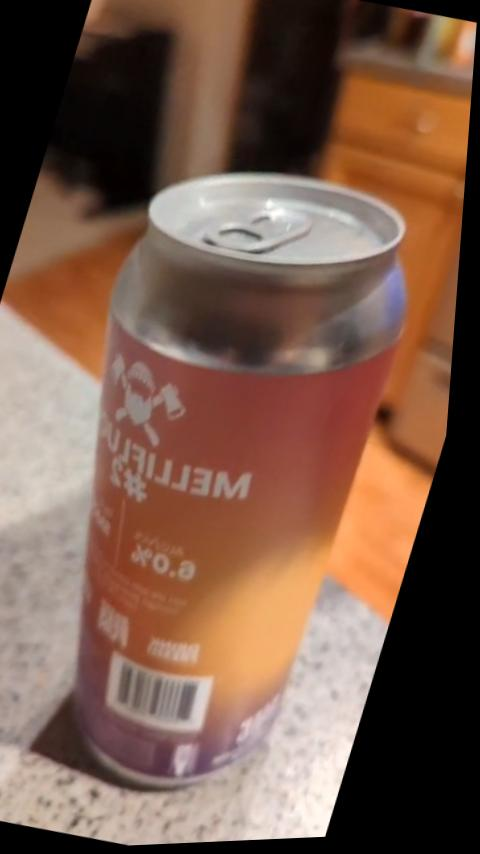metal: (75, 173, 404, 785)
